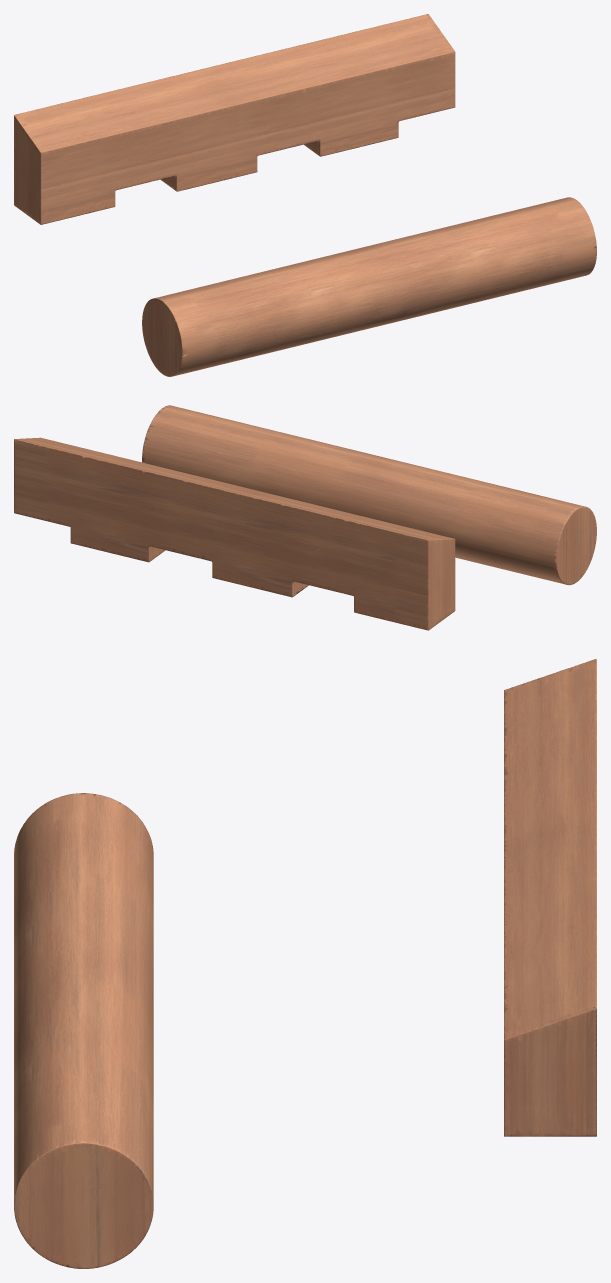
The model's file is 10压槽枋、撩檐槫.glb.
3 views of the same model, one above another, from view 1: azimuth 30°, elevation 25°; view 2: azimuth 150°, elevation 25°; view 3: azimuth 270°, elevation 25° (orthographic). The views are drawn at different scales.
Size of the model in its own units: 1.9 by 0.6591 by 1.34.
Materials: 1 (1 with a texture image).
